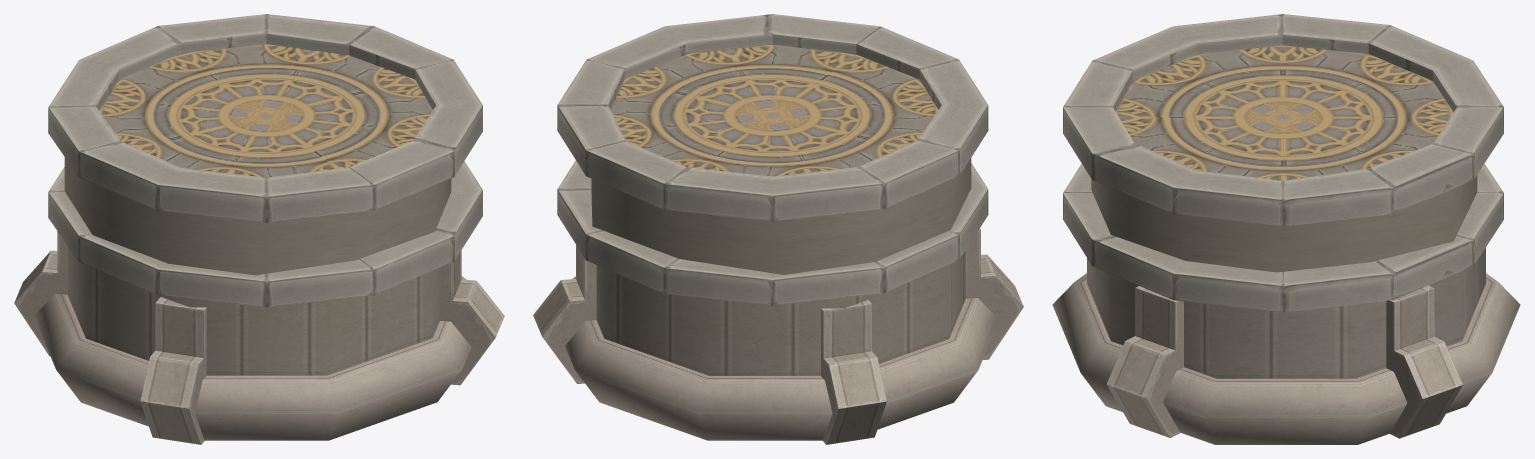
File: mod_zlc_jianzhu080_xy.FBX
The picture shows the model from 3 angles, left to right: view 1: azimuth 30°, elevation 25°; view 2: azimuth 150°, elevation 25°; view 3: azimuth 270°, elevation 25°; orthographic projection. The views are drawn at different scales.
Visible parts, largest first — view 1: mod_zlc_jianzhu080_xy; view 2: mod_zlc_jianzhu080_xy; view 3: mod_zlc_jianzhu080_xy.
Part boxes in pixels (<box>): mod_zlc_jianzhu080_xy: <box>14,14,504,444</box>; mod_zlc_jianzhu080_xy: <box>533,14,1023,444</box>; mod_zlc_jianzhu080_xy: <box>1052,14,1520,444</box>.
Size of the model in its own units: 469 by 287 by 472.
Materials: 2 (2 with a texture image).
